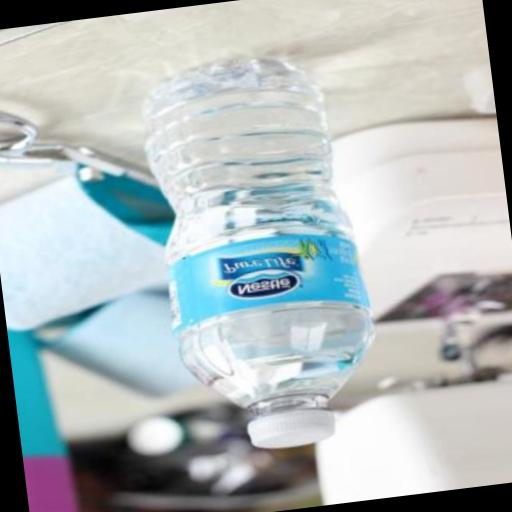Coca: (124, 34, 395, 469)
